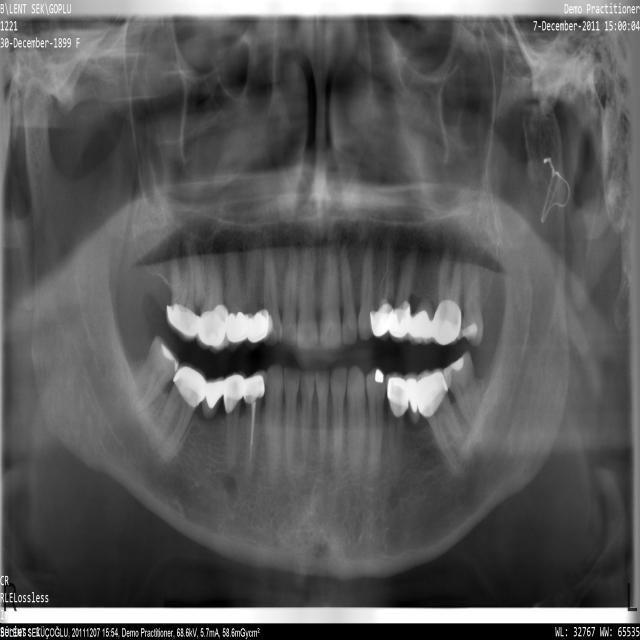Canine: (263, 226, 283, 346), (265, 362, 284, 482), (347, 366, 365, 489), (358, 233, 375, 341)
Incisores: (320, 224, 341, 349), (298, 219, 318, 349), (280, 235, 298, 346), (340, 239, 358, 345), (284, 367, 301, 470), (331, 368, 347, 464), (301, 371, 315, 466), (316, 369, 330, 463)
Premolars: (372, 229, 396, 341), (224, 240, 247, 352), (245, 228, 265, 349), (244, 370, 266, 479), (390, 251, 416, 343), (223, 370, 246, 473), (385, 373, 407, 477), (366, 368, 385, 476)
molars: (417, 368, 469, 475), (153, 366, 205, 461), (127, 336, 175, 414), (167, 235, 199, 341), (443, 351, 483, 435), (196, 249, 228, 352), (433, 245, 462, 345), (409, 248, 434, 345), (201, 378, 223, 470), (463, 255, 484, 347), (404, 372, 422, 455)
